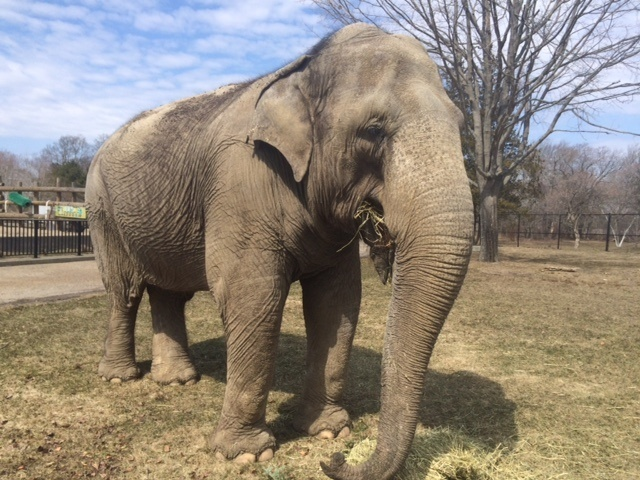elephant: (72, 15, 484, 479)
